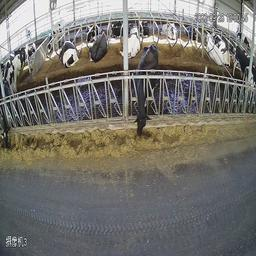cow: (134, 43, 163, 135), (13, 39, 36, 92), (90, 29, 110, 64), (205, 29, 223, 66), (47, 16, 64, 54), (58, 41, 78, 67), (127, 21, 139, 59), (159, 19, 177, 40), (82, 18, 97, 42), (109, 16, 122, 39), (138, 17, 150, 40), (186, 23, 200, 42)
